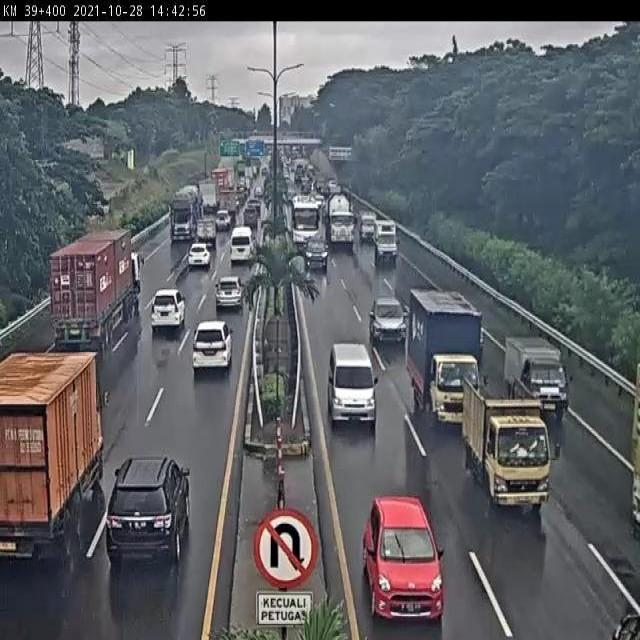big truck: (0, 348, 111, 568), (47, 226, 146, 358)
bus-s-: (327, 341, 377, 431)
car: (359, 495, 447, 628), (106, 456, 193, 572), (192, 321, 236, 376), (367, 296, 408, 352), (150, 285, 188, 336), (216, 274, 244, 310), (305, 235, 329, 273), (230, 228, 253, 264), (189, 241, 213, 272)
truck-m-: (462, 377, 551, 512), (409, 290, 486, 426)
truck-s-: (505, 339, 574, 429), (374, 220, 398, 263)
